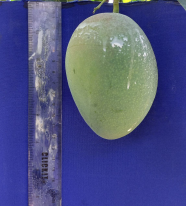Mango-sano: (65, 13, 157, 139)
